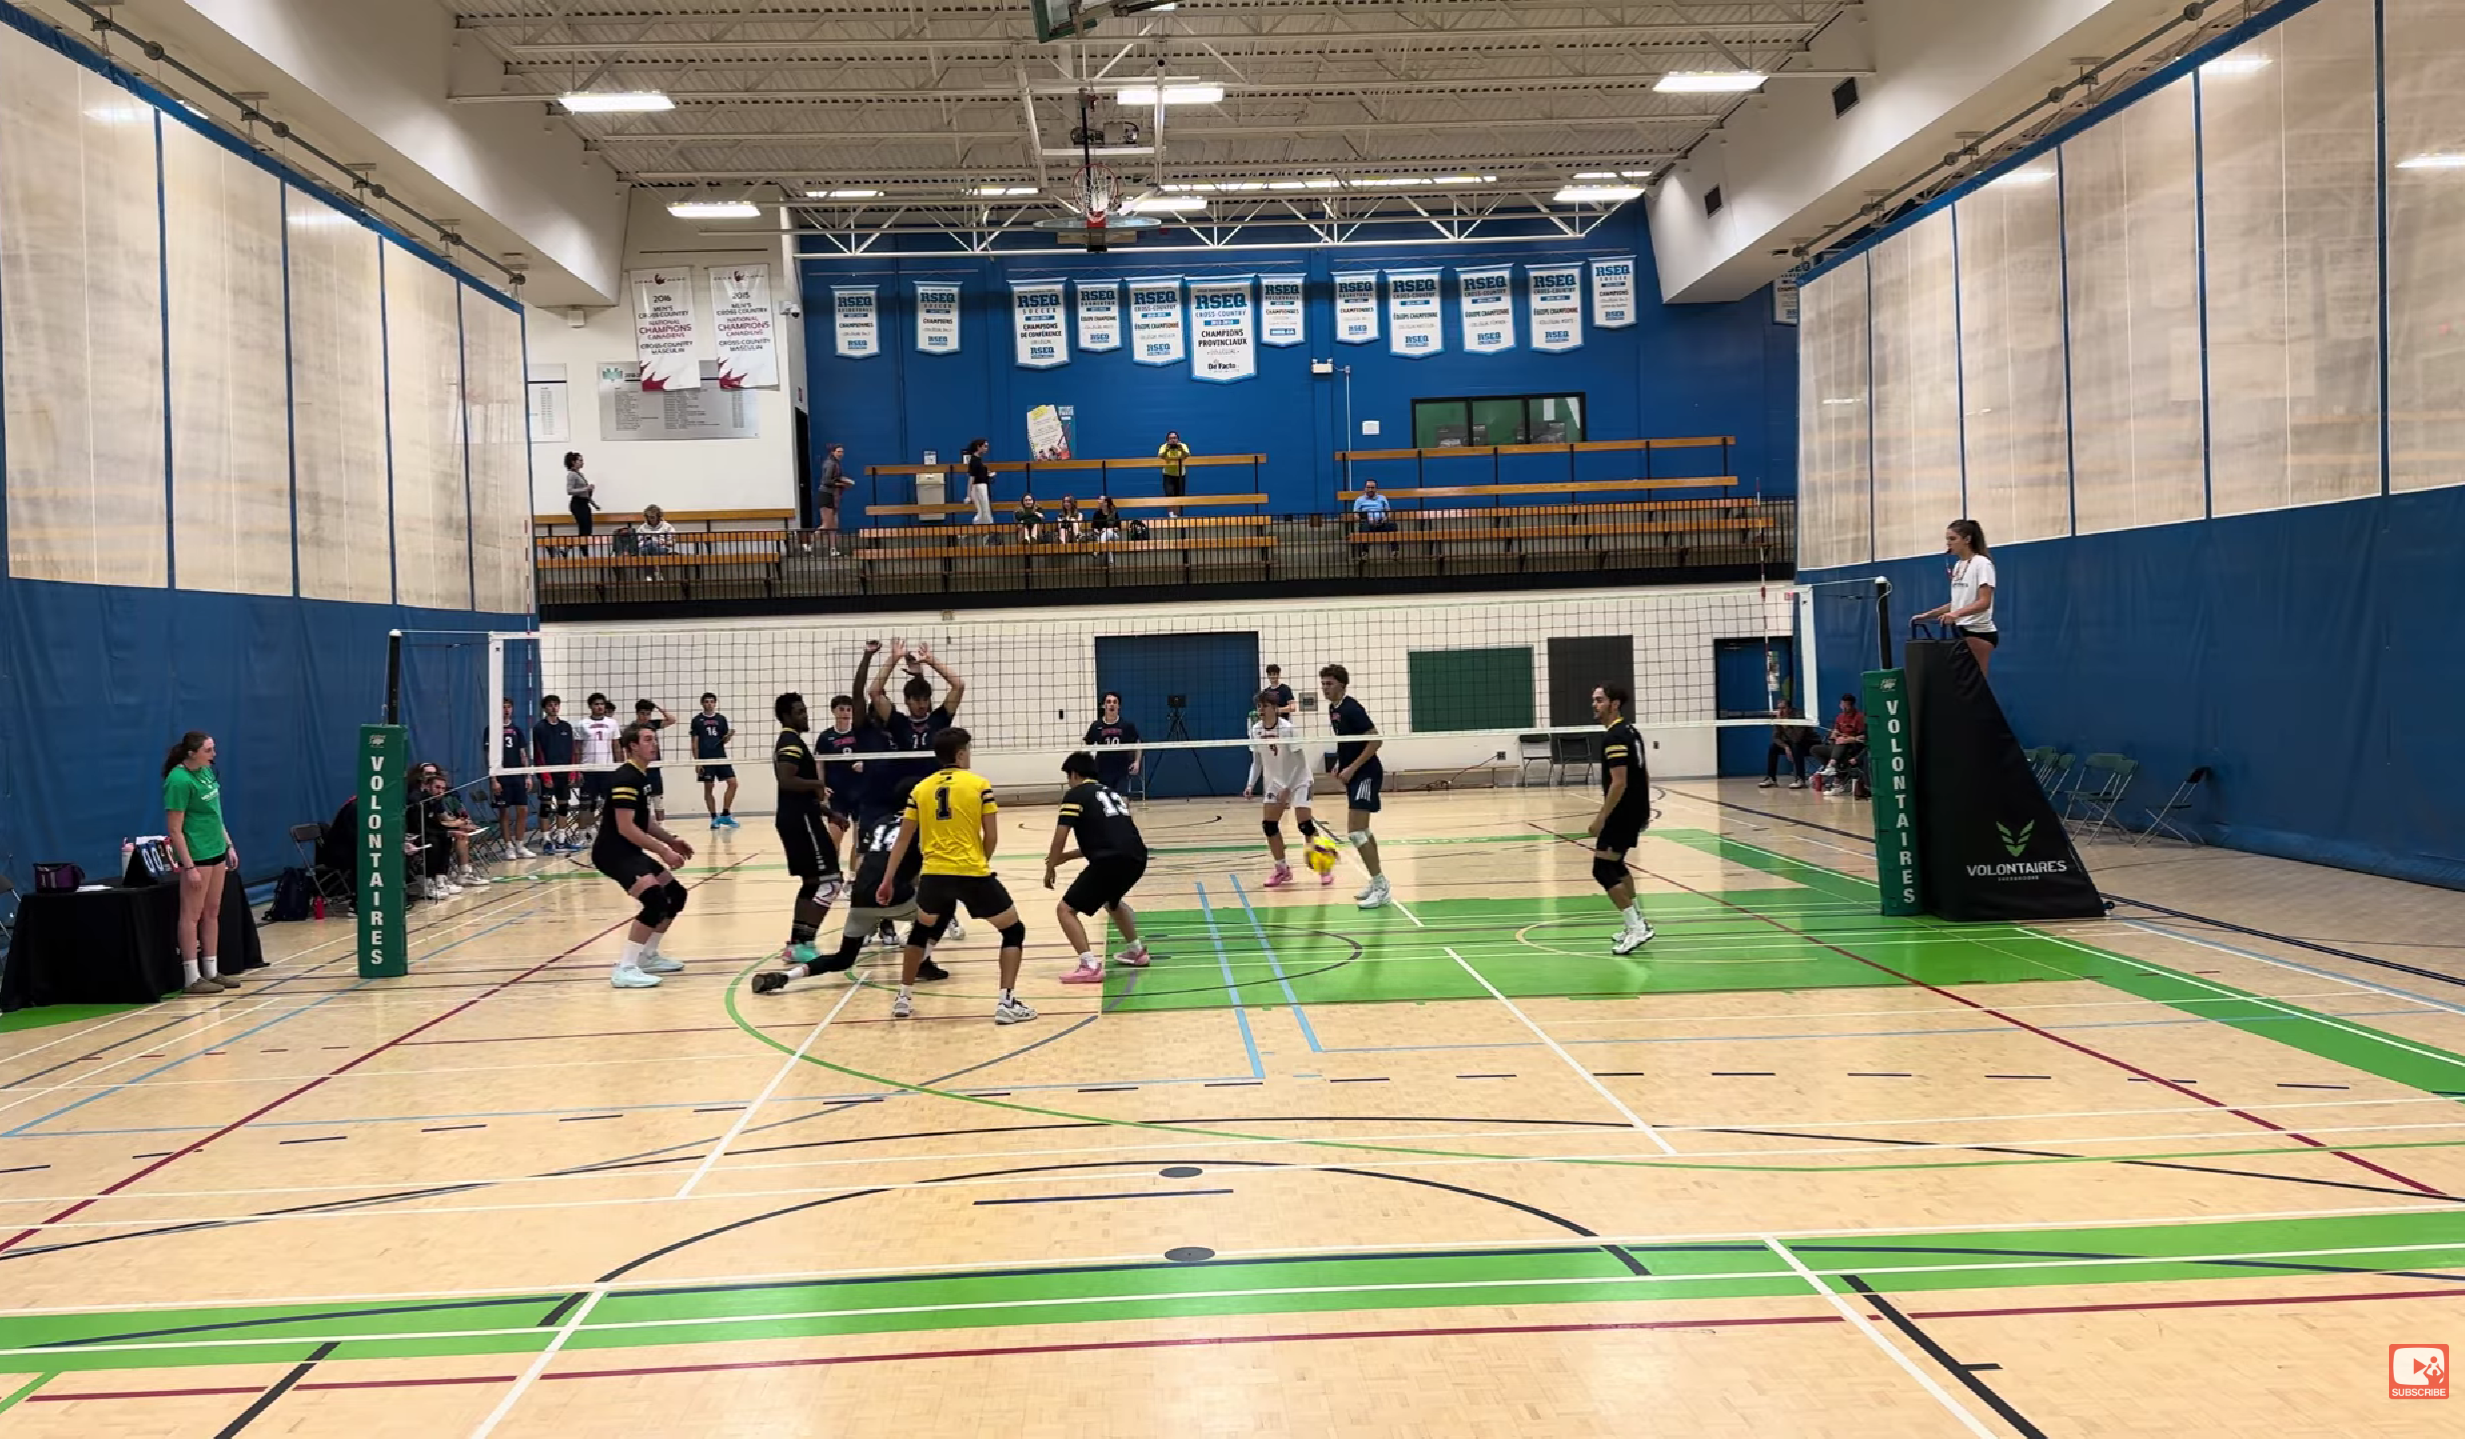Ball: (1302, 836, 1341, 874)
